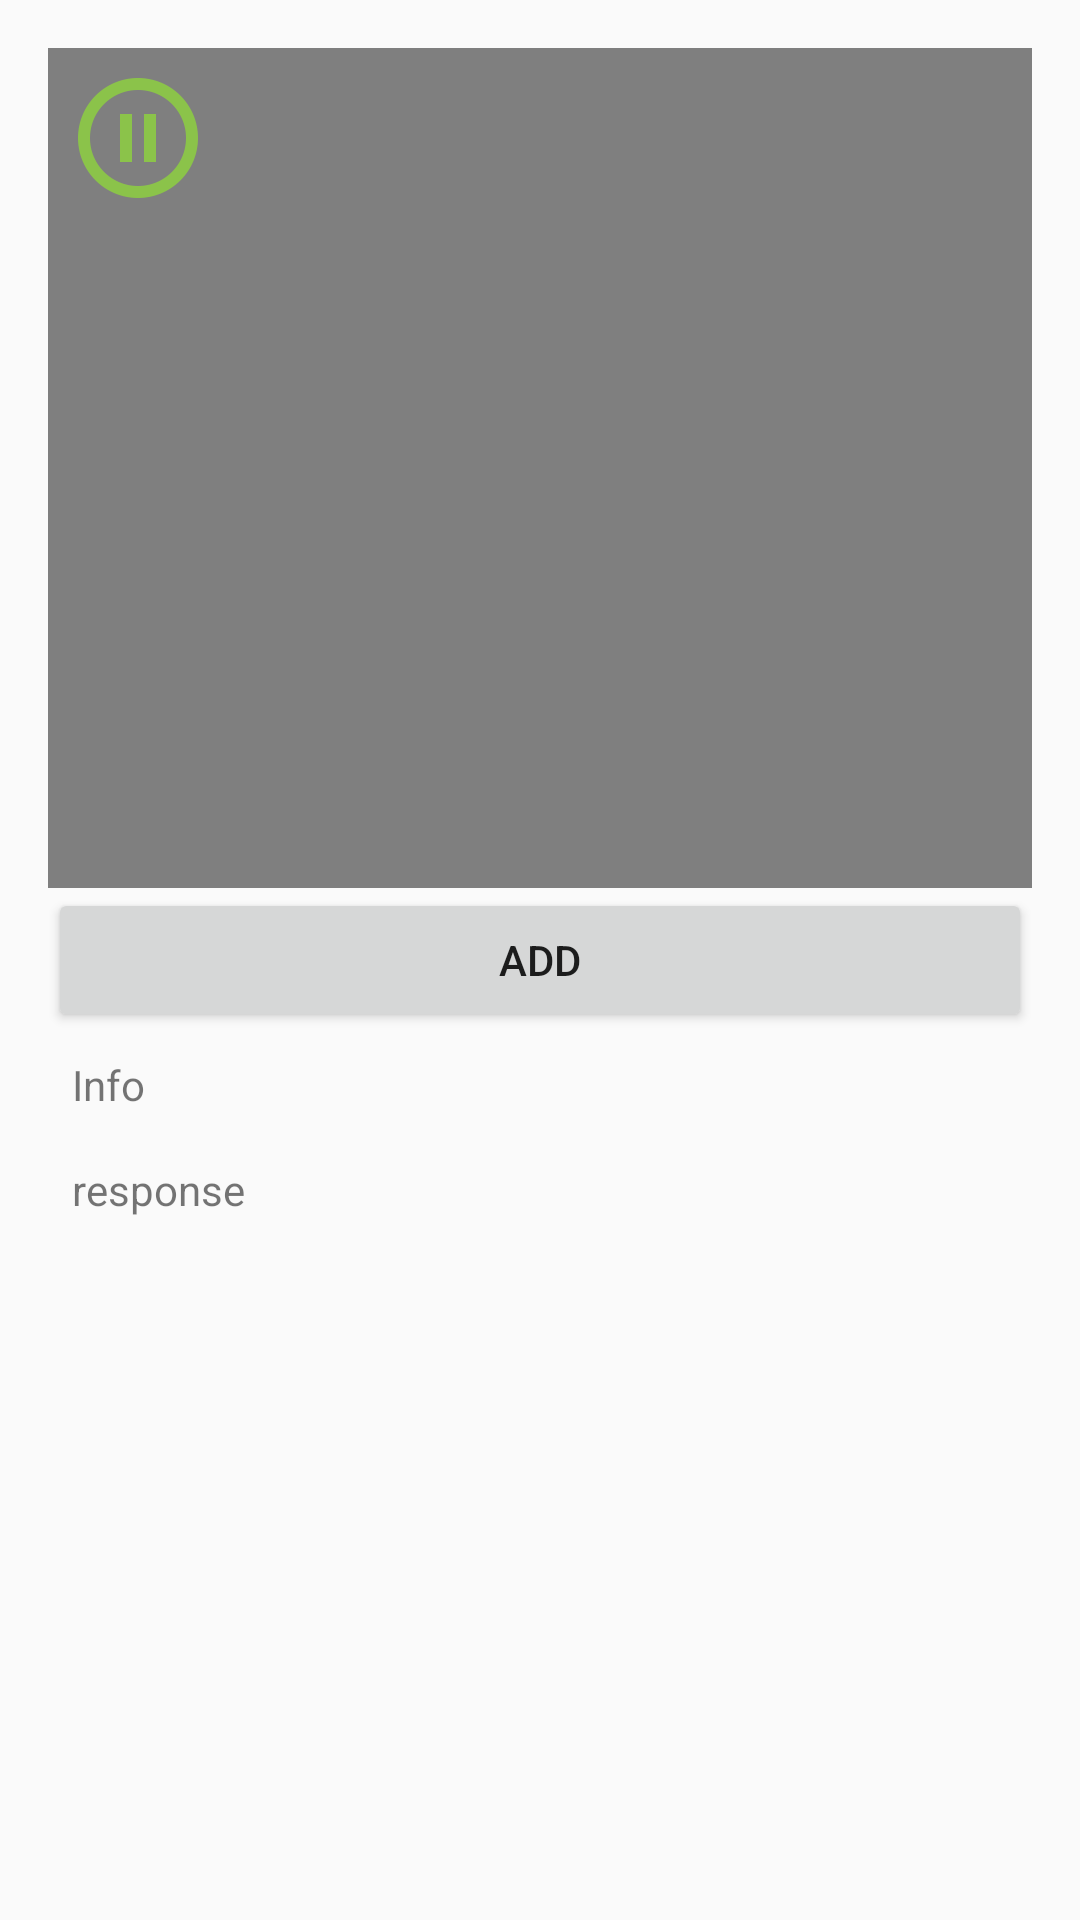

Named icons in this screenshot (1080 × 1920) and their bounding boxes, (x1, y1, x2, y2):
pause: (78, 78, 198, 198)
